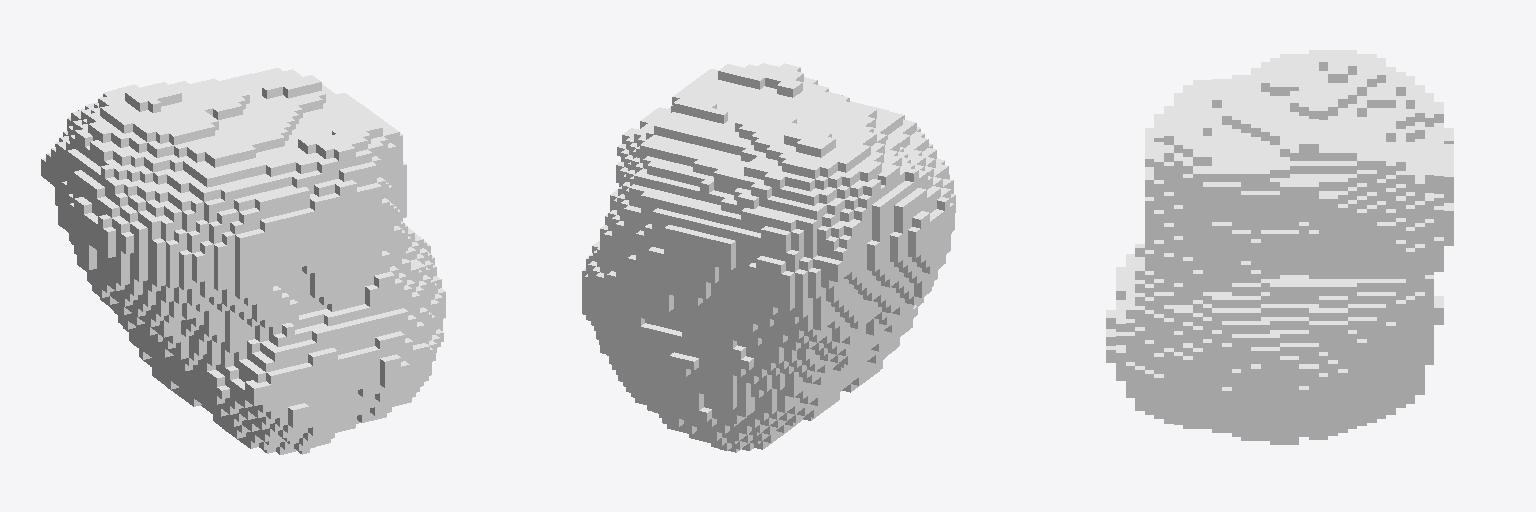
File: rock-05.obj
3 views of the same model, side by side, from view 1: azimuth 30°, elevation 25°; view 2: azimuth 150°, elevation 25°; view 3: azimuth 270°, elevation 25° (orthographic).
Size of the model in its own units: 40 by 36 by 36.